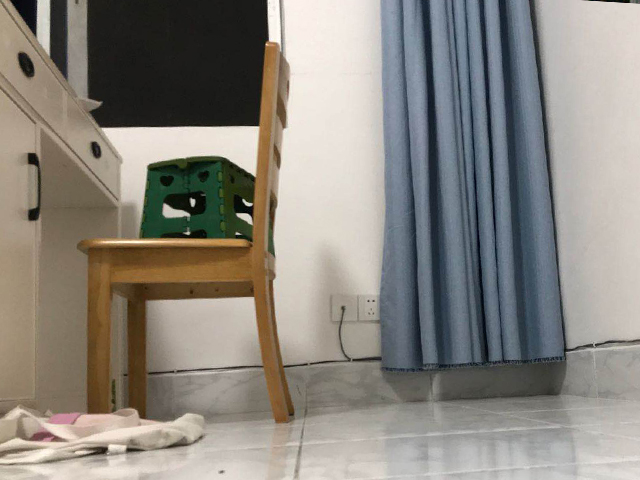curtain: (378, 1, 567, 375)
stool: (77, 40, 295, 425)
table: (1, 1, 124, 413)
